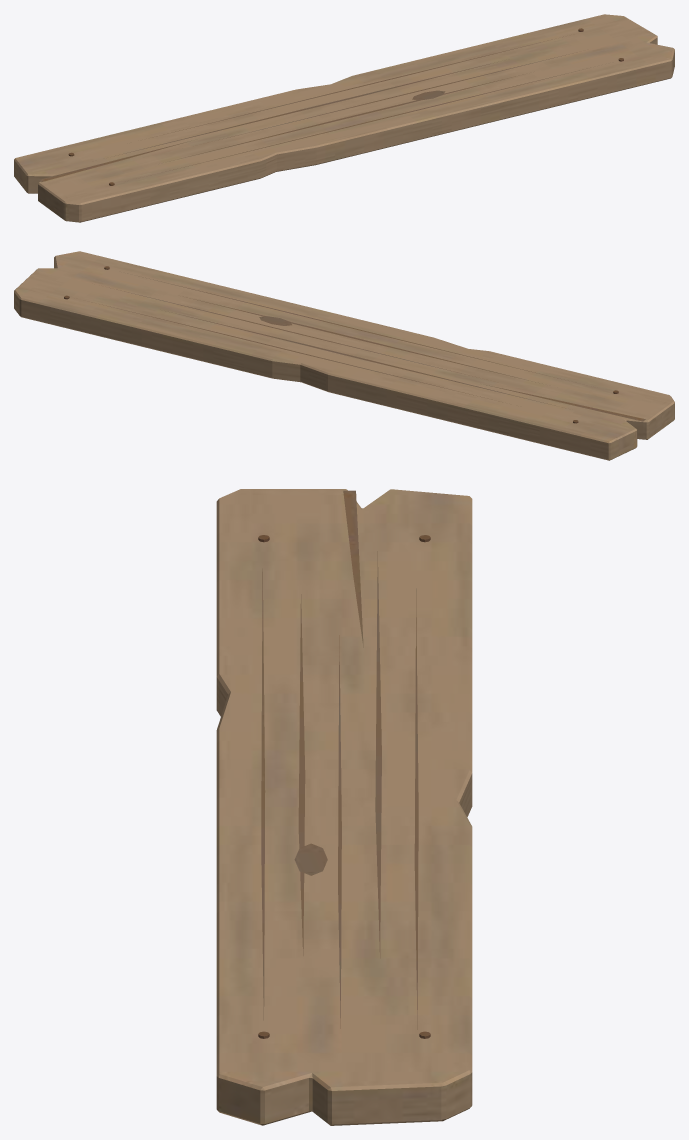
The model's file is D18_wooden_planks_v1.glb.
The picture shows the model from 3 angles, top to bottom: view 1: azimuth 30°, elevation 25°; view 2: azimuth 150°, elevation 25°; view 3: azimuth 270°, elevation 25°; orthographic projection. The views are drawn at different scales.
Parts seen in each view (by area): view 1: Broad salvaged plank; view 2: Broad salvaged plank; view 3: Broad salvaged plank.
Boxes of the visible parts, x1,y1,x2,y2 form: Broad salvaged plank: (14, 14, 674, 222); Broad salvaged plank: (14, 251, 674, 460); Broad salvaged plank: (216, 489, 472, 1125).
Size of the model in its own units: 1.5 by 0.048 by 0.2701.
3 materials, 3 textured.
